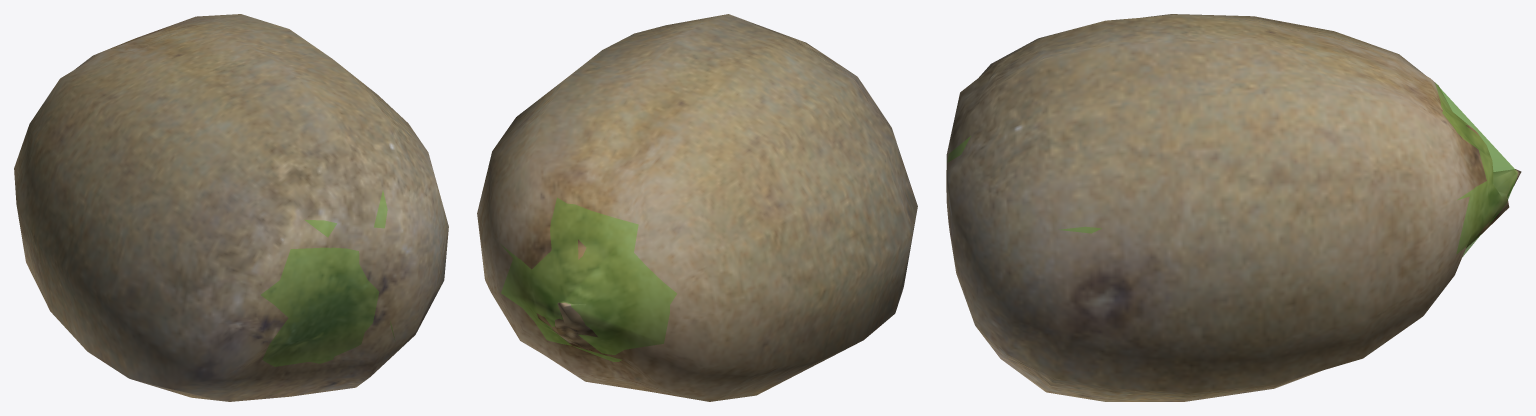
Rendered from pg_Kiwi_04.fbx.
3 views of the same model, side by side, from view 1: azimuth 30°, elevation 25°; view 2: azimuth 150°, elevation 25°; view 3: azimuth 270°, elevation 25° (orthographic). The views are drawn at different scales.
Visible parts, largest first — view 1: pg_Kiwi_04_a_LOD0, pg_Kiwi_04_a_col; view 2: pg_Kiwi_04_a_LOD0, pg_Kiwi_04_a_col; view 3: pg_Kiwi_04_a_LOD0, pg_Kiwi_04_a_col.
Part boxes in pixels (left/top/right/bottom): pg_Kiwi_04_a_LOD0: left=14, top=14, right=448, bottom=401; pg_Kiwi_04_a_col: left=261, top=190, right=394, bottom=391; pg_Kiwi_04_a_LOD0: left=477, top=14, right=917, bottom=401; pg_Kiwi_04_a_col: left=501, top=197, right=676, bottom=361; pg_Kiwi_04_a_LOD0: left=946, top=14, right=1521, bottom=401; pg_Kiwi_04_a_col: left=947, top=83, right=1517, bottom=256.
Size of what is drawn, in the model's own units: 5.96 by 5.25 by 7.91.
